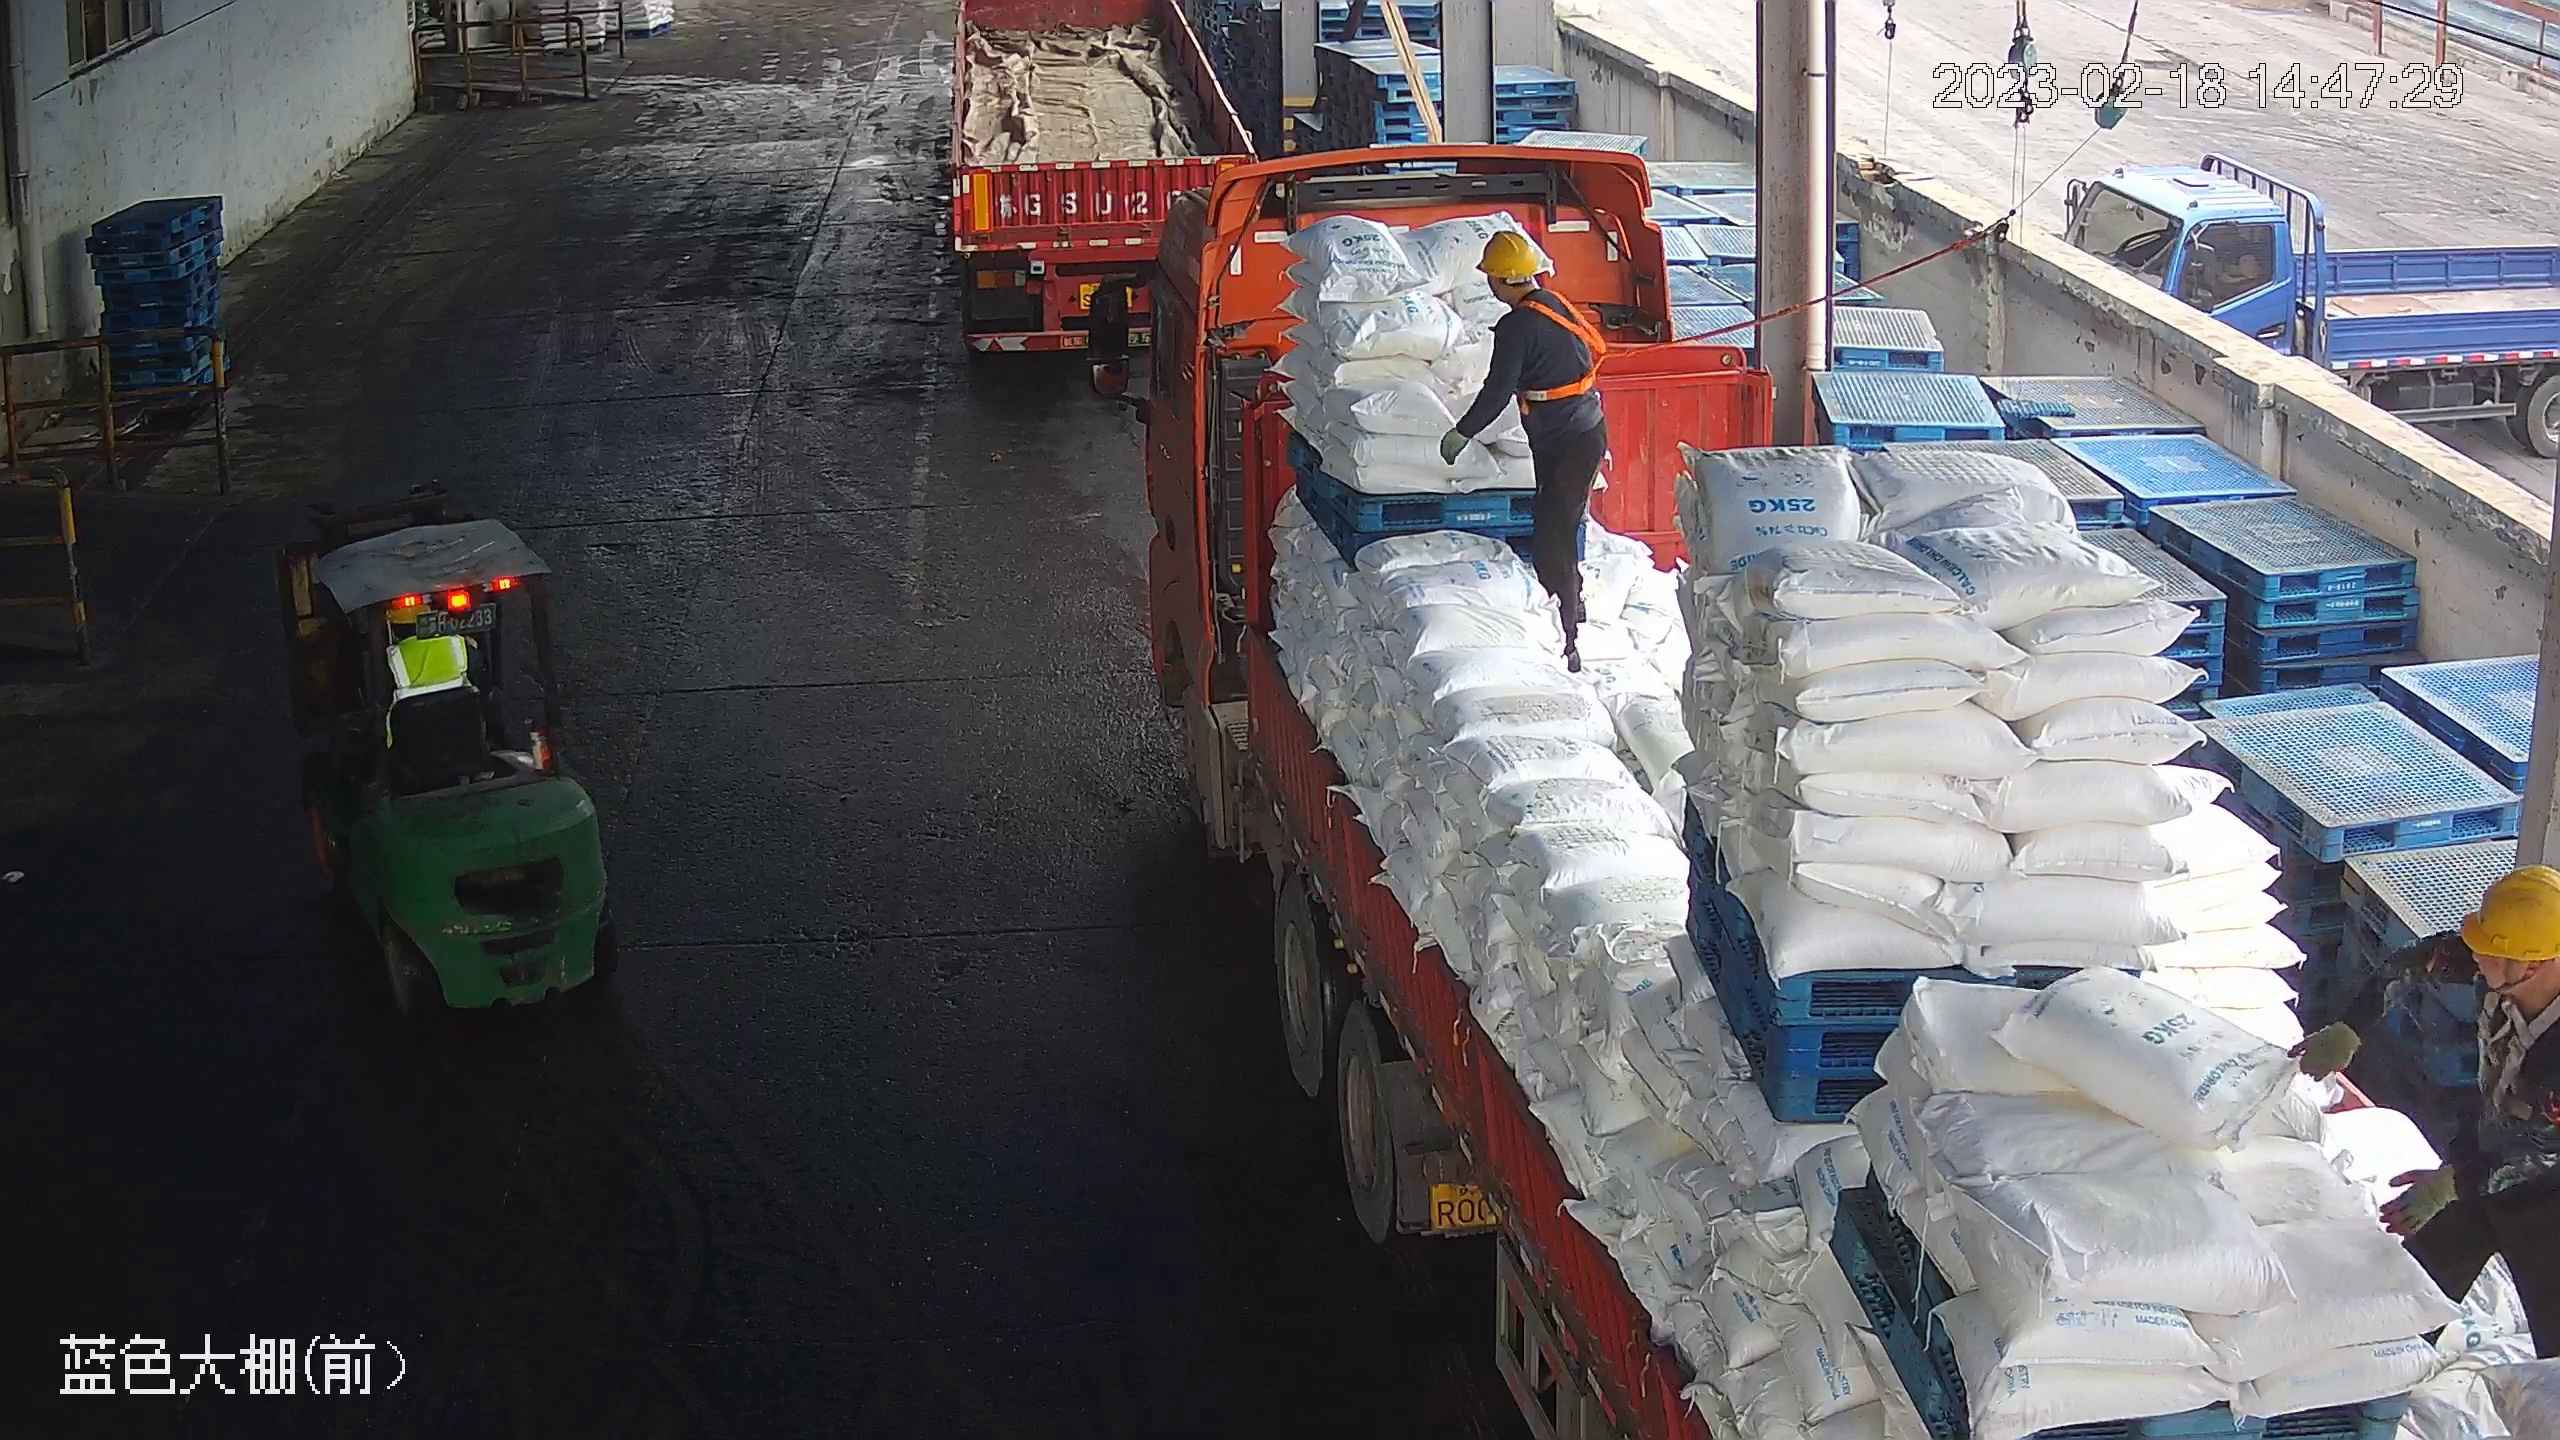belt: (2473, 977, 2560, 1145), (1520, 294, 1614, 407)
head: (2428, 858, 2559, 1075), (1469, 226, 1597, 360)
helmet: (2457, 861, 2560, 962), (1474, 225, 1546, 281)
people: (2287, 850, 2560, 1399), (1437, 225, 1613, 663)
truck: (1084, 143, 2554, 1439), (946, 1, 1265, 359)
